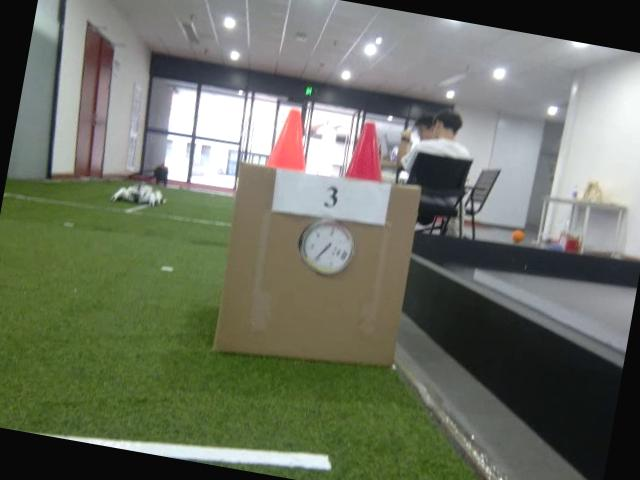3: (321, 181, 342, 210)
Dashboard: (292, 212, 358, 279)
orange_barrel: (264, 103, 316, 174)
red_barrel: (342, 117, 396, 184)
ssi: (336, 246, 348, 262)
